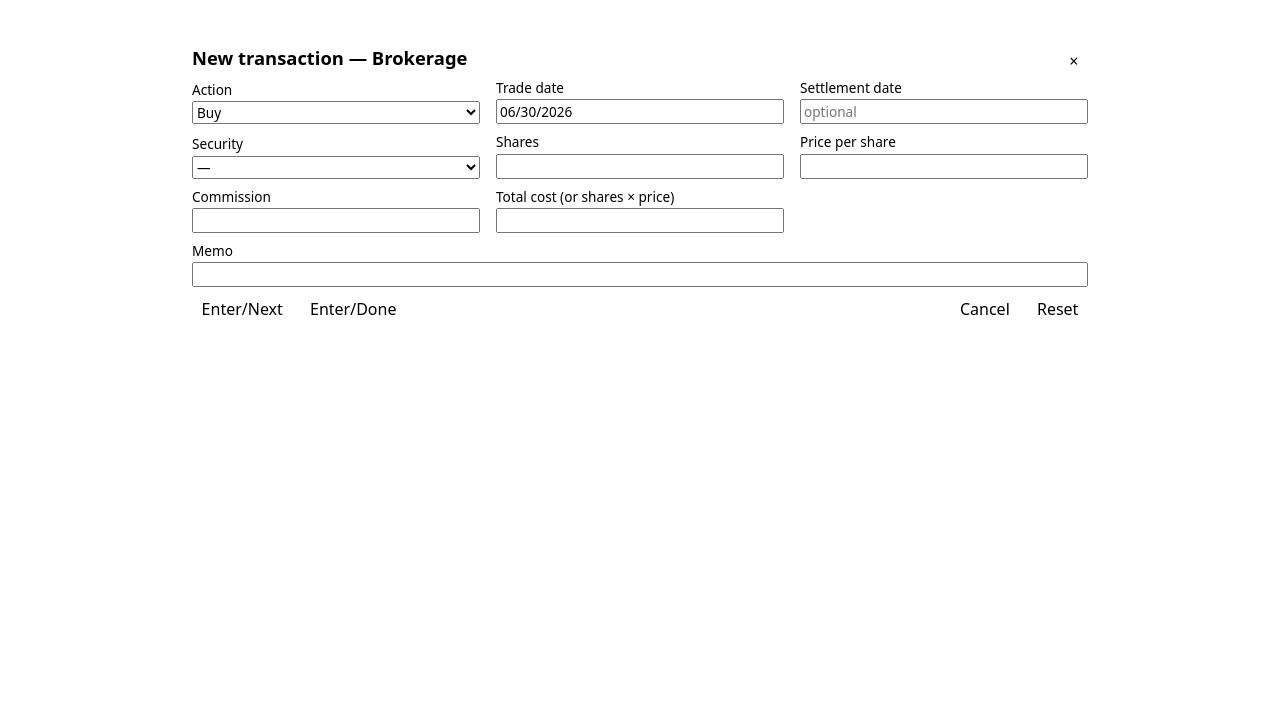
Test: Investment entry dialog (INV-030) › a dividend has no shares, price, or commission
This screenshot has width=1280, height=720.
Select "Dividend" in the dropdown labelled "Action". click: (336, 113)
box: [192,101,480,124]
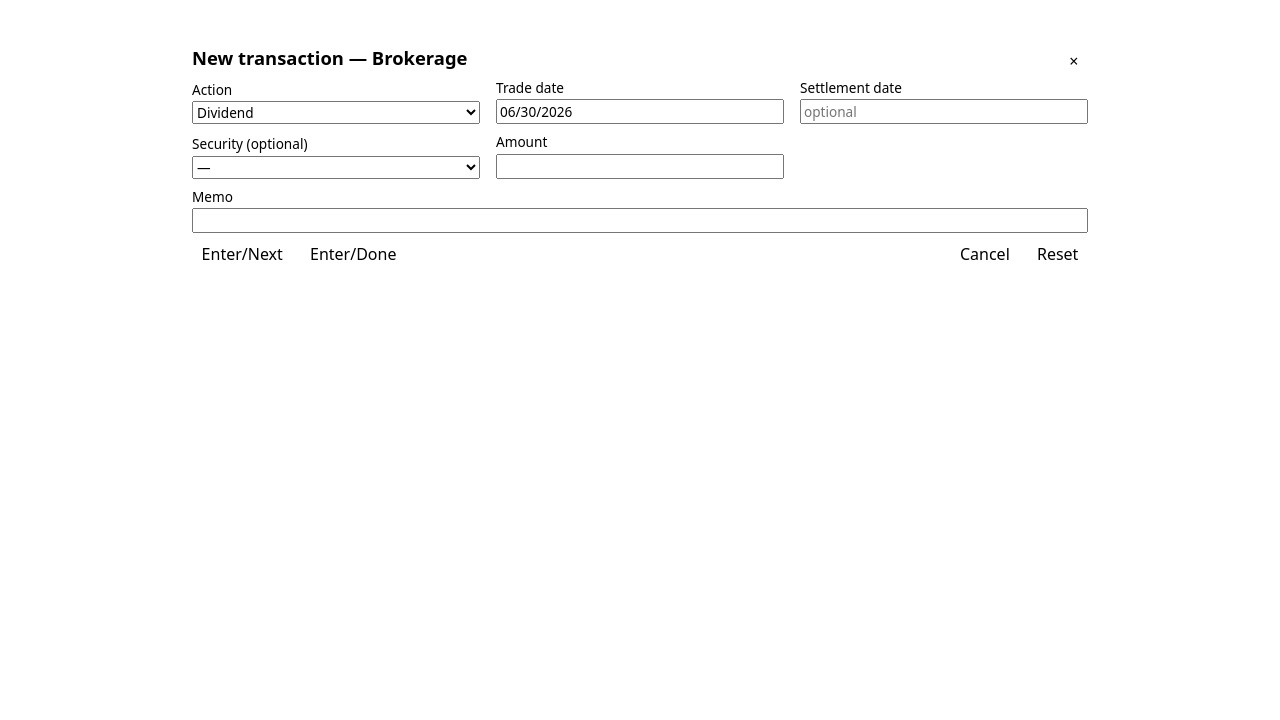
Expected: the field labelled "Amount" is shown, [496,154,784,179]
Expected: the label labelled "Shares" is gone
Expected: the label labelled "Commission" is gone
